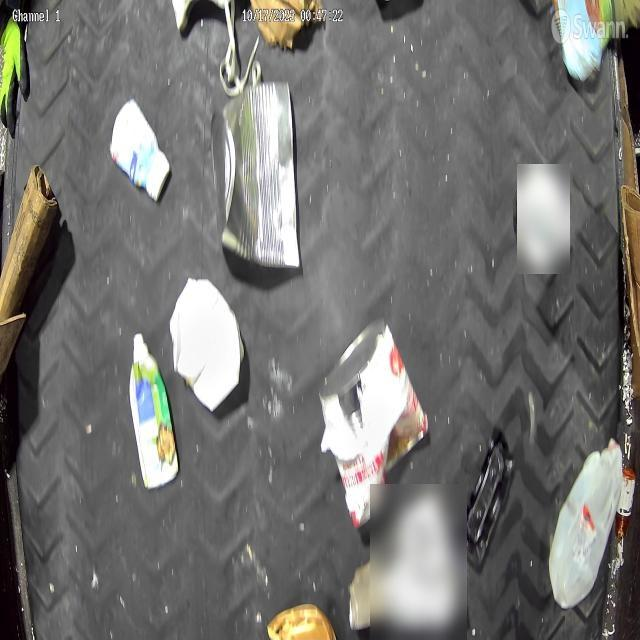milk_jug: (546, 438, 625, 610)
